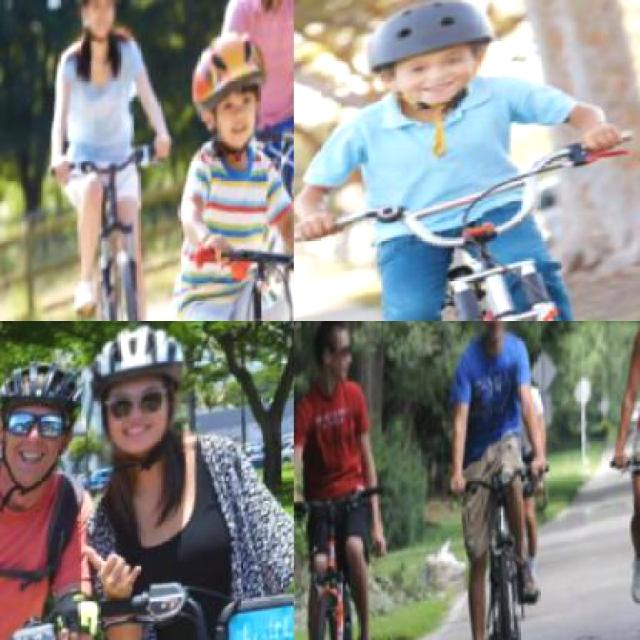With Helmet: (75, 320, 211, 477), (352, 0, 517, 108), (0, 346, 98, 504), (184, 20, 287, 168), (64, 0, 137, 52)
Without Helmet: (308, 320, 366, 386), (463, 320, 531, 352)
